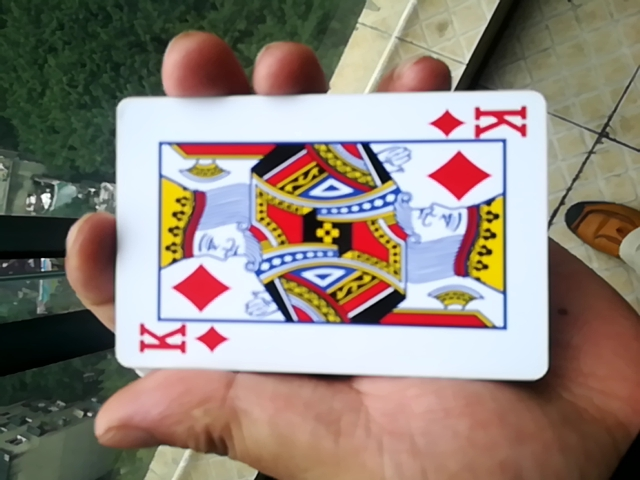fk k: (102, 93, 549, 386)
